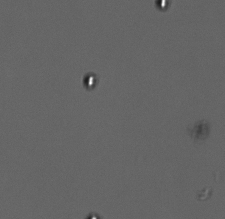Living Cell: (82, 72, 98, 89), (153, 1, 171, 10)
